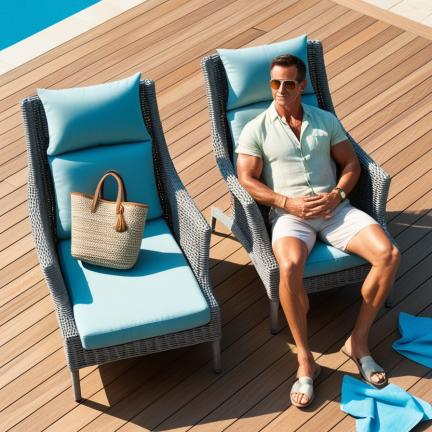guest on chair: (201, 35, 400, 408)
occupied chair: (21, 73, 221, 402)
